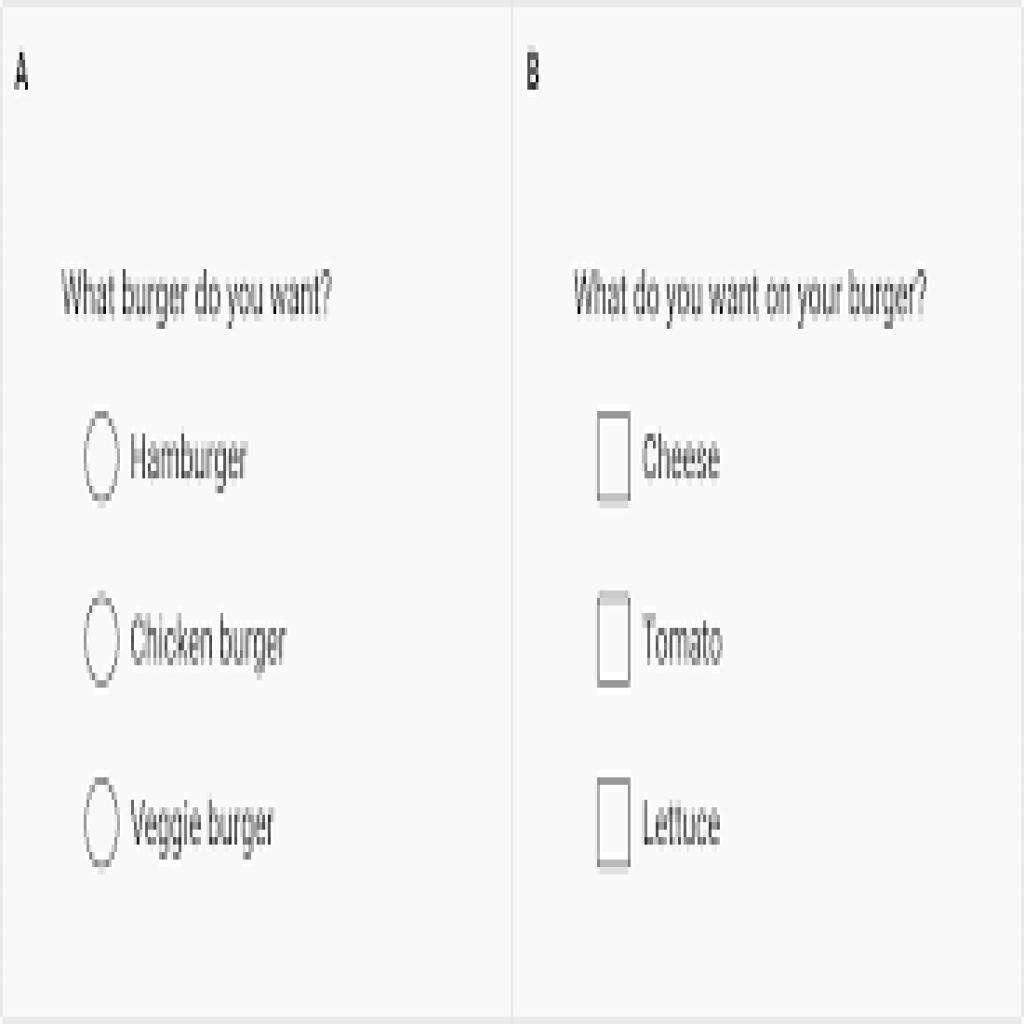checkbox: (596, 593, 633, 689), (597, 778, 633, 876), (599, 414, 632, 505)
label: (129, 607, 291, 682), (127, 793, 278, 864), (129, 431, 256, 495), (639, 608, 729, 673), (641, 792, 729, 850), (638, 428, 726, 484)
radio: (82, 410, 124, 510), (81, 776, 123, 876), (84, 596, 121, 692)
